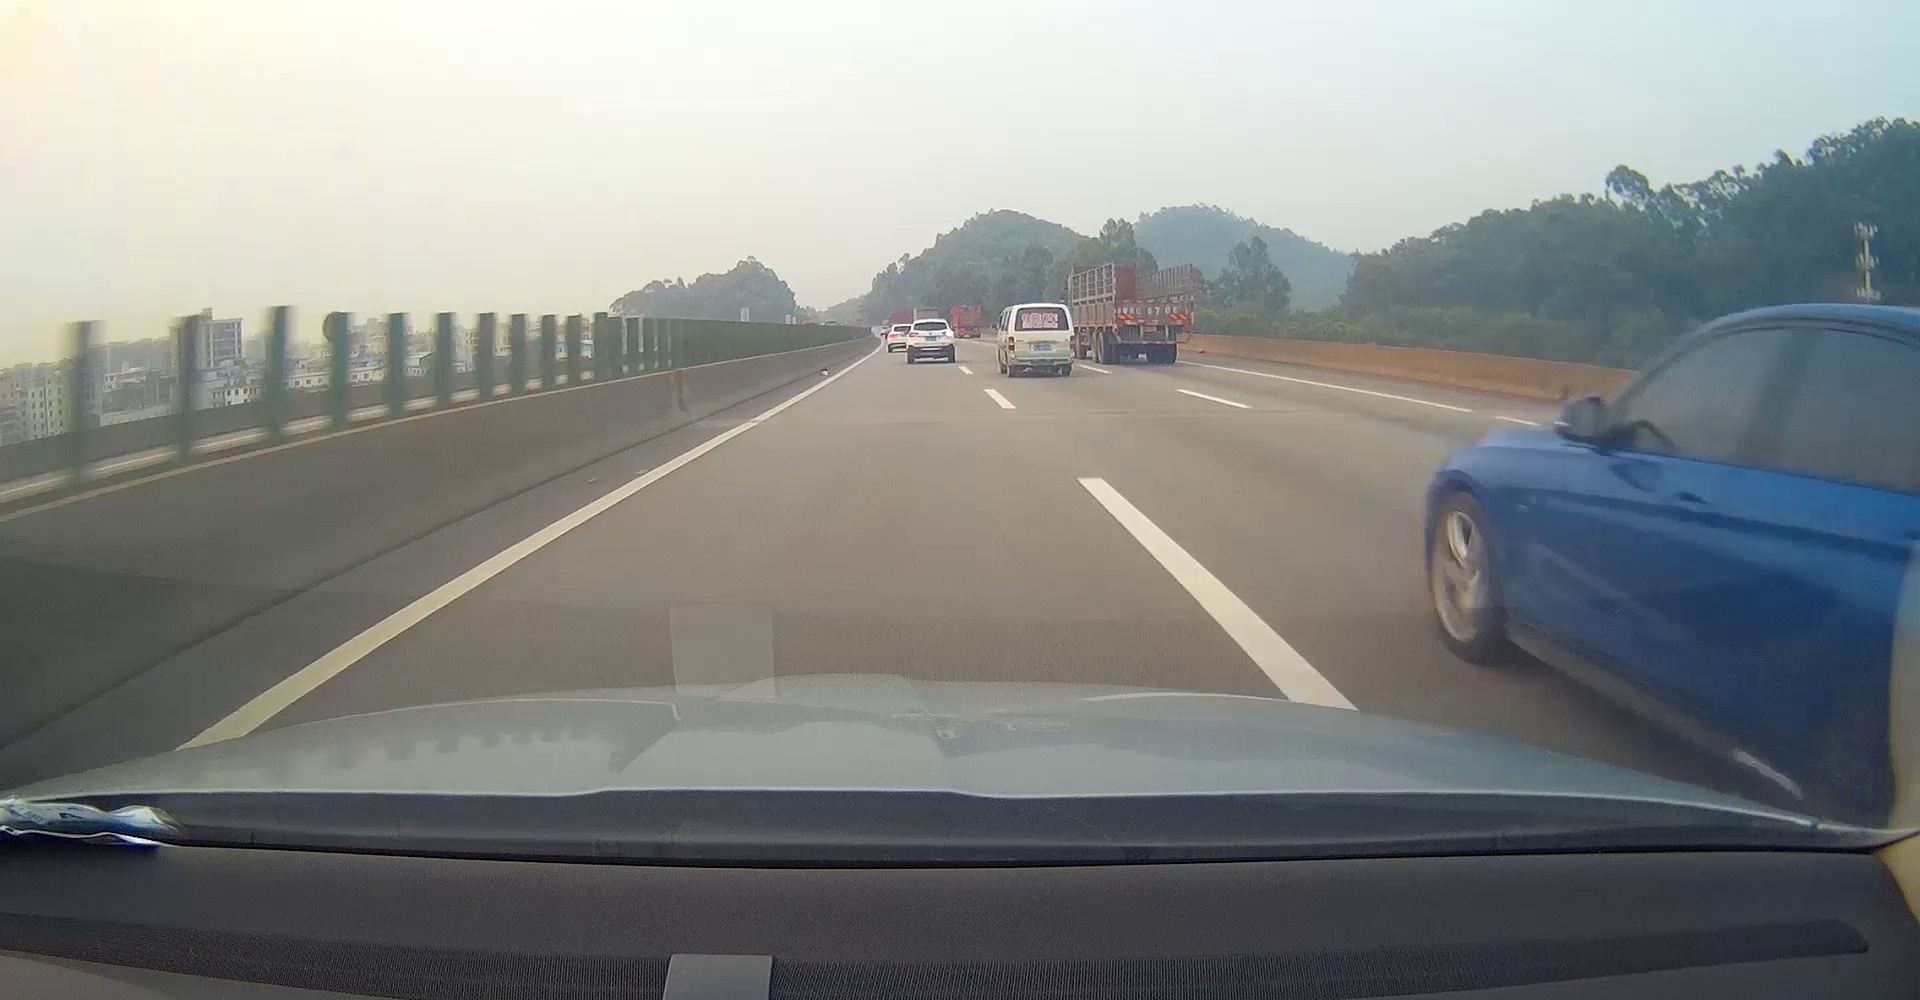L_light: (1010, 336, 1015, 350), (909, 332, 919, 338)
R_light: (1069, 335, 1076, 349), (943, 331, 954, 336)
T_light: (1035, 307, 1048, 311), (926, 322, 935, 325)
day-no: (1010, 303, 1076, 377)
day-right: (905, 319, 956, 363)
